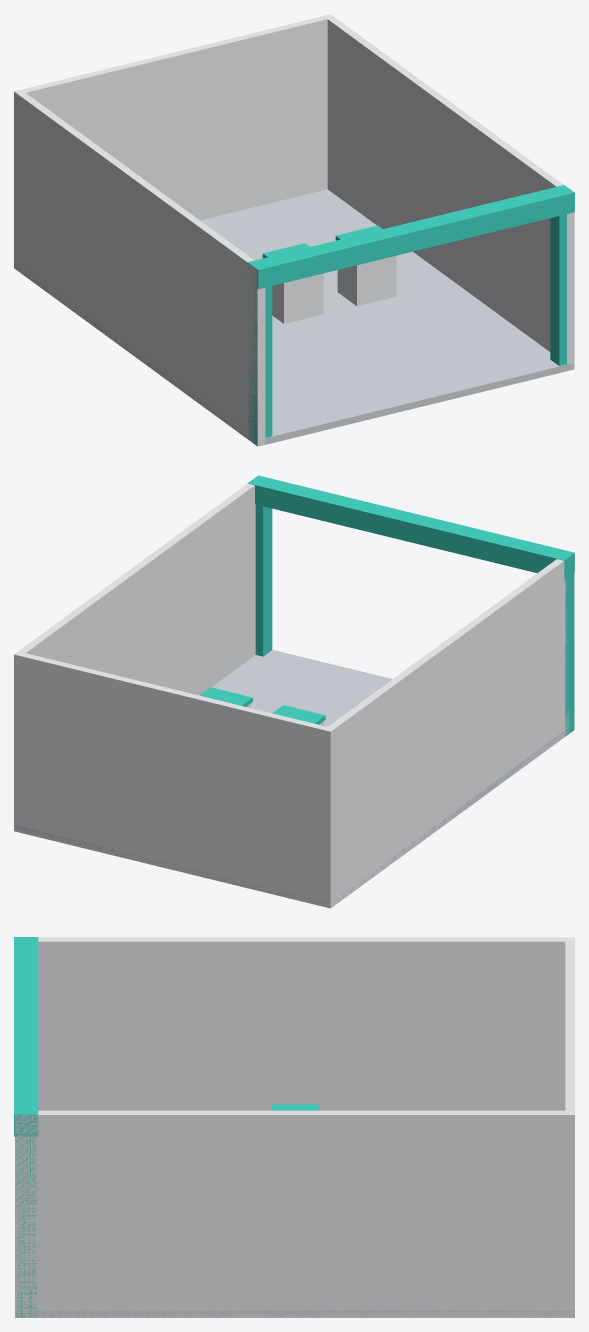
The picture shows the model from 3 angles, top to bottom: view 1: azimuth 30°, elevation 25°; view 2: azimuth 150°, elevation 25°; view 3: azimuth 270°, elevation 25°; orthographic projection. The views are drawn at different scales.
Parts seen in each view (by area): view 1: Exhibition Booth Concept; view 2: Exhibition Booth Concept; view 3: Exhibition Booth Concept.
Boxes of the visible parts, x1,y1,x2,y2 form: Exhibition Booth Concept: [14, 14, 574, 446]; Exhibition Booth Concept: [14, 475, 574, 908]; Exhibition Booth Concept: [14, 937, 574, 1317].
Bounding box in the file's own units: 6 × 3.2 × 8.01.
